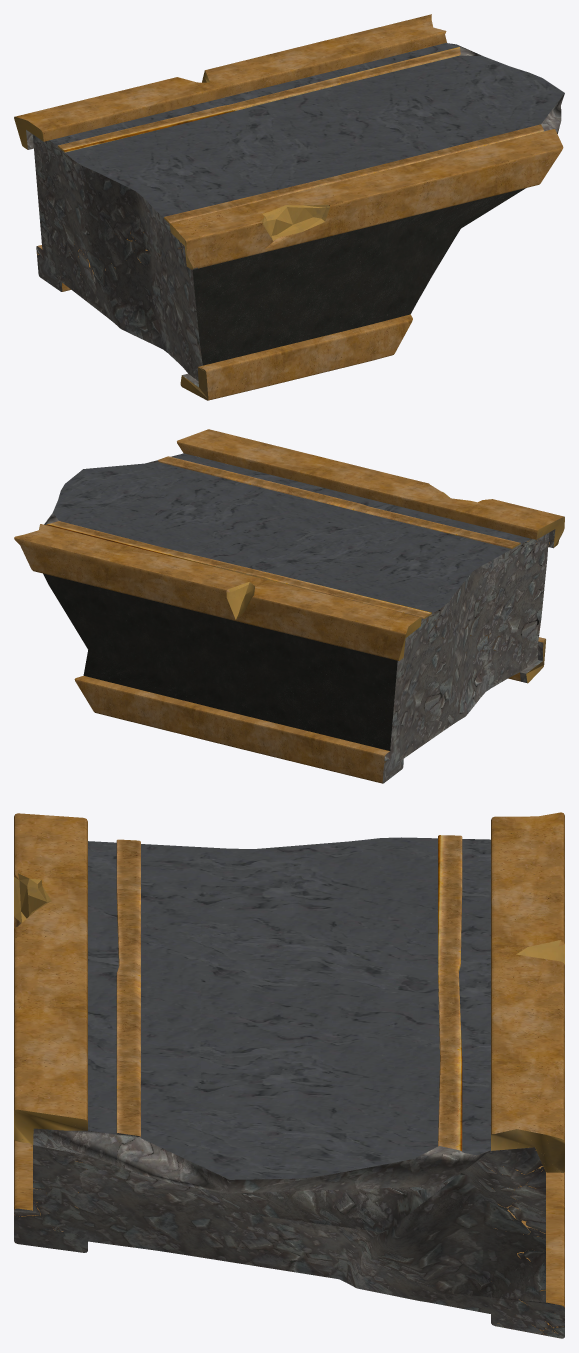
3 renders of one model, top to bottom at view 1: azimuth 30°, elevation 25°; view 2: azimuth 150°, elevation 25°; view 3: azimuth 270°, elevation 25°, orthographic. The views are drawn at different scales.
Visible parts, largest first — view 1: SM_Kuldras_Arena_BridgePiece_02_LOD0; view 2: SM_Kuldras_Arena_BridgePiece_02_LOD0; view 3: SM_Kuldras_Arena_BridgePiece_02_LOD0.
Boxes of the visible parts, <box> form: SM_Kuldras_Arena_BridgePiece_02_LOD0: <box>14,14,564,400</box>; SM_Kuldras_Arena_BridgePiece_02_LOD0: <box>14,429,564,783</box>; SM_Kuldras_Arena_BridgePiece_02_LOD0: <box>14,812,564,1338</box>.
Bounding box in the file's own units: 17.88 × 6.39 × 11.84.
5 materials, 5 textured.
